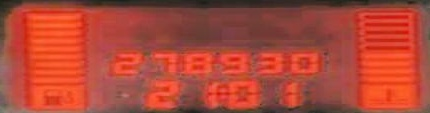0: (225, 79, 258, 108), (287, 51, 318, 73)
1: (283, 80, 297, 107), (205, 81, 216, 106)
2: (144, 80, 179, 108), (108, 52, 142, 73)
3: (255, 52, 281, 73)
7: (152, 52, 177, 73)
8: (182, 52, 212, 73)
9: (217, 52, 247, 73)
X: (217, 86, 227, 99)
